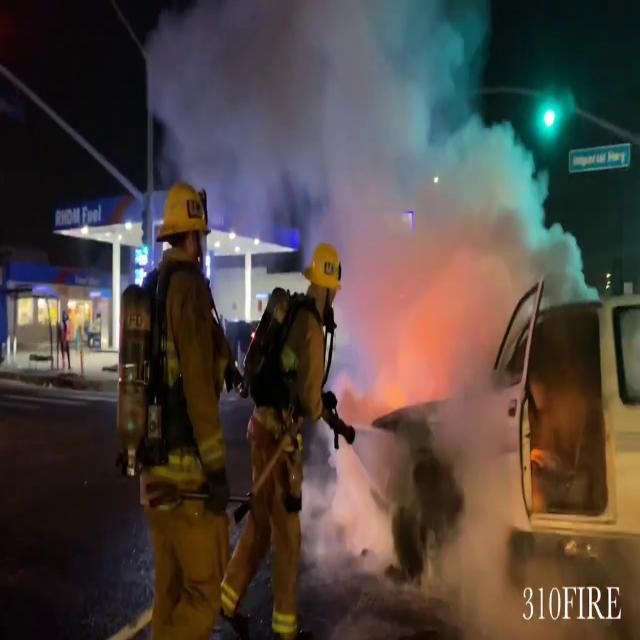Smoke: (156, 0, 555, 364)
